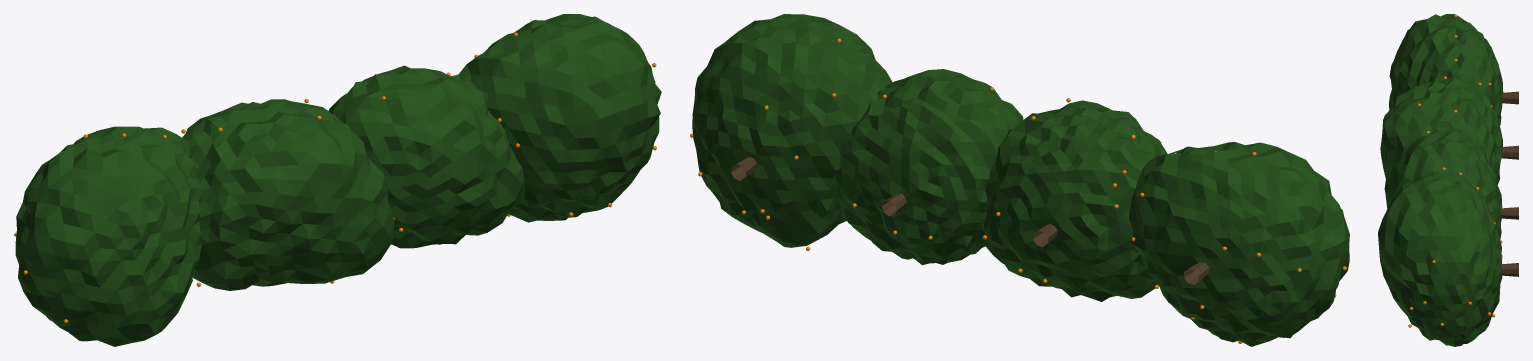
The model's file is citrus_run4_b_fruit.obj.
3 views of the same model, side by side, from view 1: azimuth 30°, elevation 25°; view 2: azimuth 150°, elevation 25°; view 3: azimuth 270°, elevation 25° (orthographic). The views are drawn at different scales.
Visible parts, largest first — view 1: canopy; view 2: canopy, trunk, fruit; view 3: canopy, trunk, fruit.
Boxes of the visible parts, x1=… form: canopy: x1=15, y1=14, x2=661, y2=346; canopy: x1=692, y1=14, x2=1349, y2=346; trunk: x1=731, y1=157, x2=1209, y2=284; fruit: x1=690, y1=38, x2=1346, y2=343; canopy: x1=1378, y1=14, x2=1503, y2=346; trunk: x1=1500, y1=91, x2=1518, y2=276; fruit: x1=1408, y1=14, x2=1502, y2=327.
Size of the model in its own units: 12.67 by 3.95 by 3.2.
